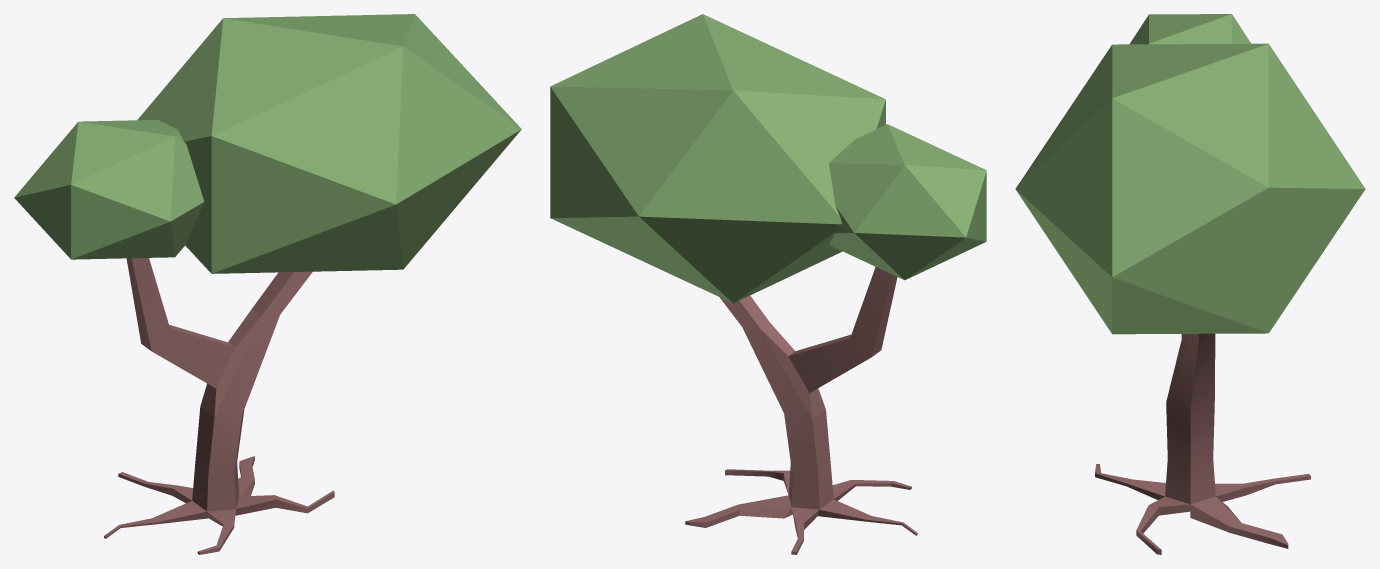
The model's file is treelow.fbx.
The picture shows the model from 3 angles, left to right: view 1: azimuth 30°, elevation 25°; view 2: azimuth 150°, elevation 25°; view 3: azimuth 270°, elevation 25°; orthographic projection. The views are drawn at different scales.
Visible parts, largest first — view 1: polySurface2; view 2: polySurface2; view 3: polySurface2.
Part boxes in pixels (box(x1,y1,x2,y2)): polySurface2: box(14, 14, 521, 554); polySurface2: box(550, 14, 986, 554); polySurface2: box(1015, 14, 1365, 554).
Size of the model in its own units: 13.99 by 13.61 by 8.9.
